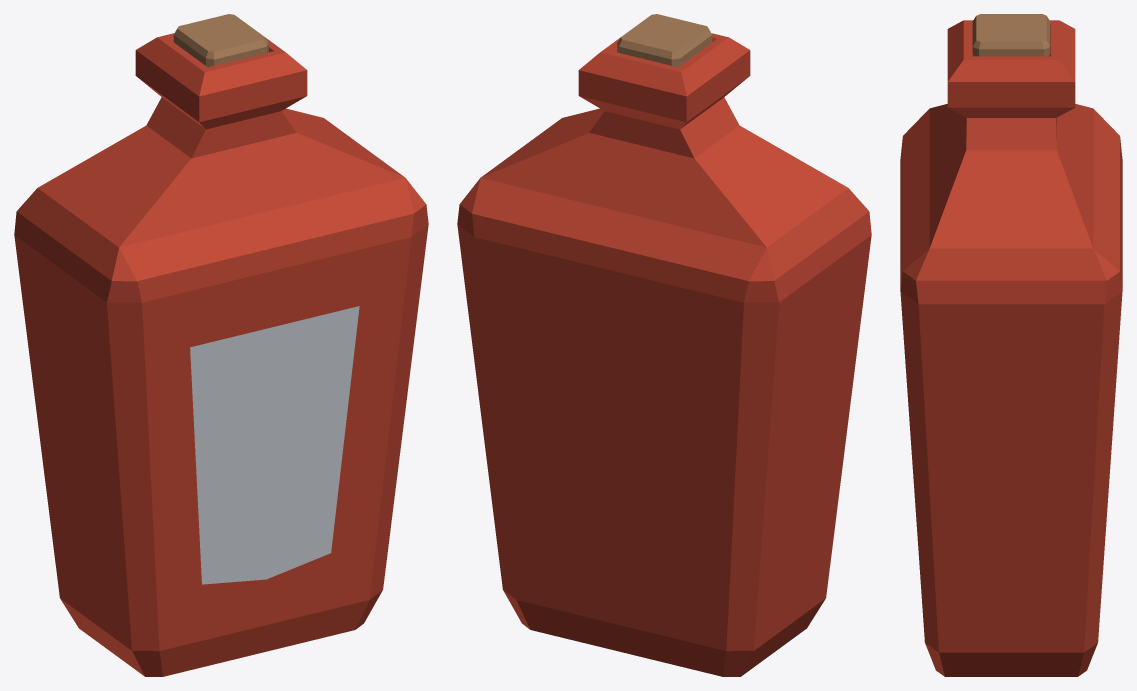
Rendered from Red_Potion_10(Label).fbx.
3 views of the same model, side by side, from view 1: azimuth 30°, elevation 25°; view 2: azimuth 150°, elevation 25°; view 3: azimuth 270°, elevation 25° (orthographic).
Parts seen in each view (by area): view 1: Red_Potion_10(Label); view 2: Red_Potion_10(Label); view 3: Red_Potion_10(Label).
Part boxes in pixels (x1,y1,x2,y2): Red_Potion_10(Label): (14,14,428,676); Red_Potion_10(Label): (457,14,871,676); Red_Potion_10(Label): (900,14,1122,676).
Bounding box in the file's own units: 22.96 × 40.43 × 13.67.
